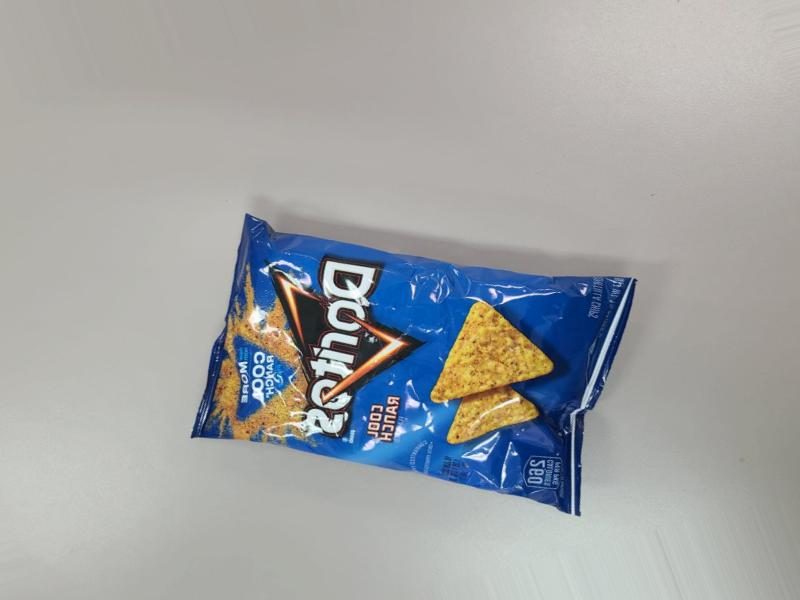doritos: (150, 223, 629, 529)
